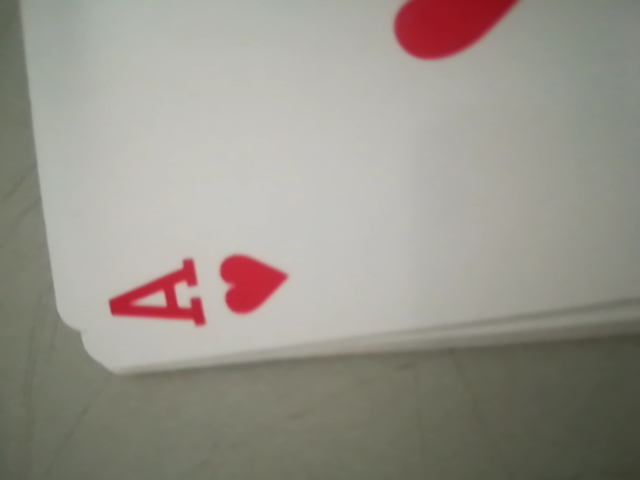hx a: (99, 213, 314, 357)
